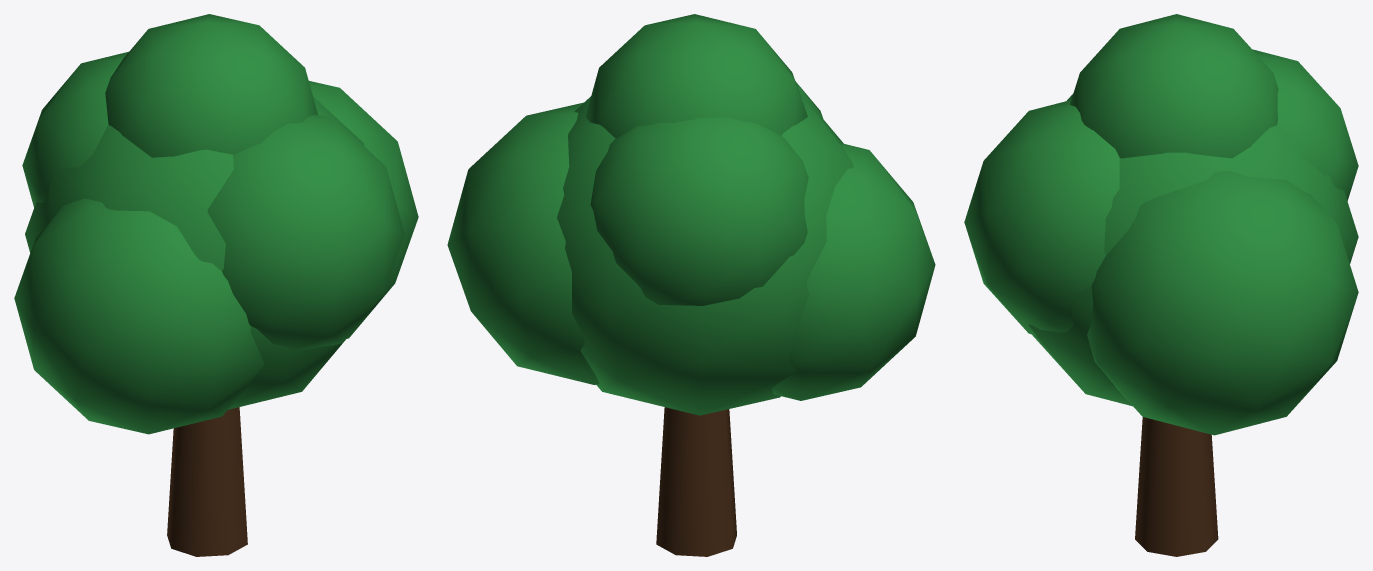
The model's file is shade_tree.glb.
3 views of the same model, side by side, from view 1: azimuth 30°, elevation 25°; view 2: azimuth 150°, elevation 25°; view 3: azimuth 270°, elevation 25° (orthographic).
Parts seen in each view (by area): view 1: ShadeTree; view 2: ShadeTree; view 3: ShadeTree.
Part boxes in pixels (bbox=[...]): ShadeTree: bbox=[14, 14, 418, 556]; ShadeTree: bbox=[447, 14, 935, 556]; ShadeTree: bbox=[964, 14, 1358, 556].
Bounding box in the file's own units: 6.2 × 7.5 × 5.2.
